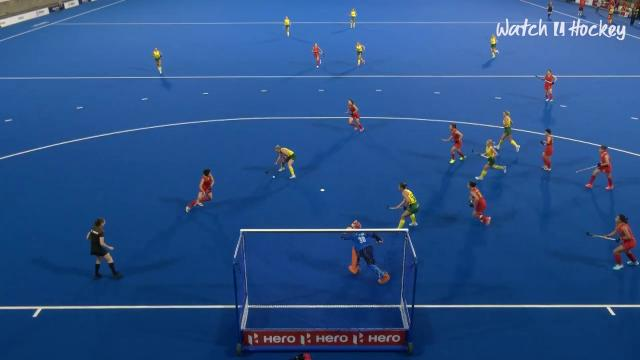ball: (265, 166, 282, 182)
